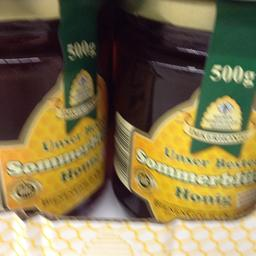honey: (116, 0, 254, 217), (0, 0, 110, 216)
